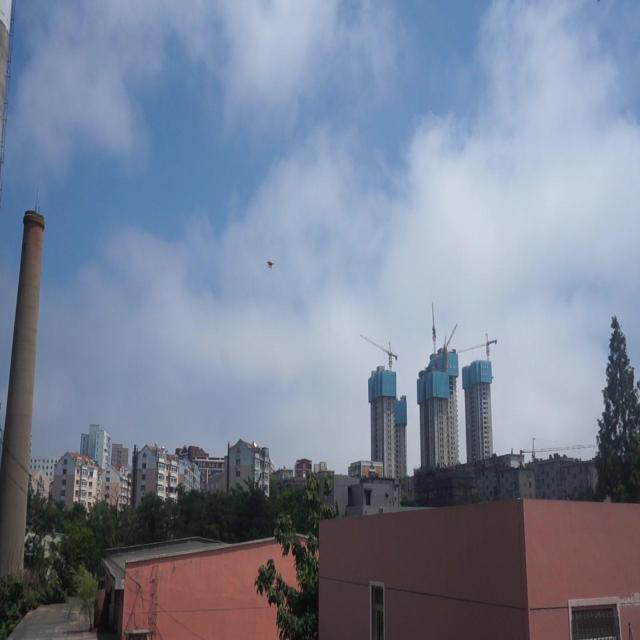drone: (265, 254, 275, 272)
